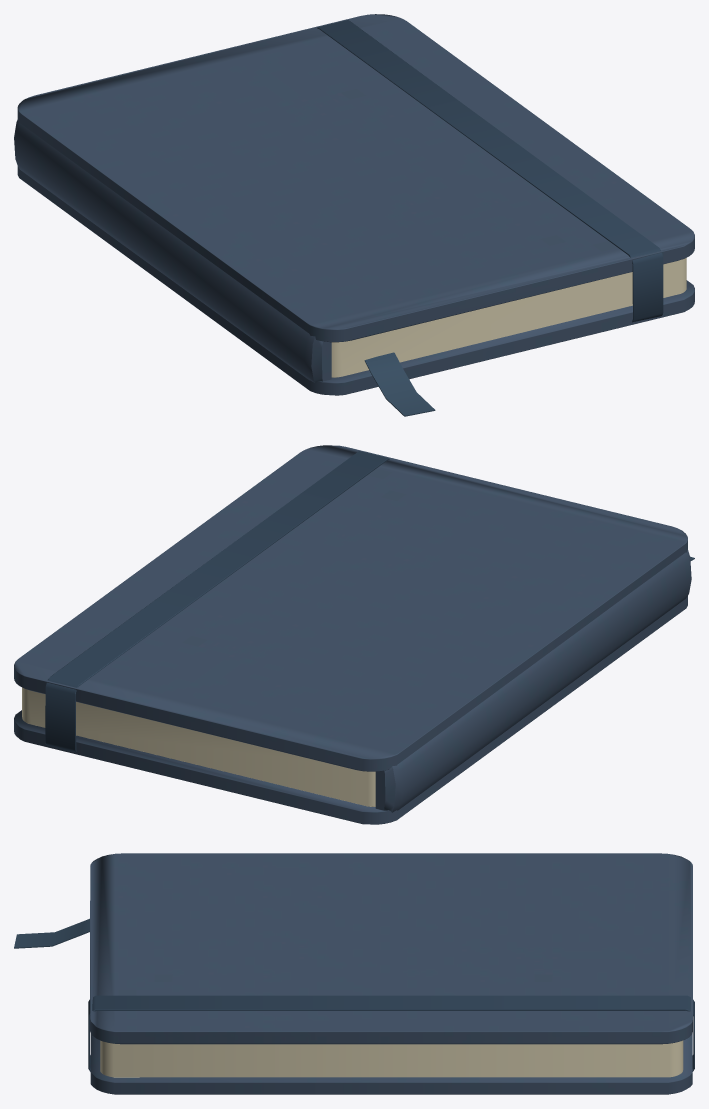
The model's file is notebook.glb.
3 views of the same model, one above another, from view 1: azimuth 30°, elevation 25°; view 2: azimuth 150°, elevation 25°; view 3: azimuth 270°, elevation 25° (orthographic). The views are drawn at different scales.
Visible parts, largest first — view 1: Bottom hardcover__asset.001, Elastic closure band__asset.001, Bound ivory page block__asset.001, Ribbon bookmark__asset.001; view 2: Bottom hardcover__asset.001, Elastic closure band__asset.001, Bound ivory page block__asset.001; view 3: Bottom hardcover__asset.001, Bound ivory page block__asset.001, Elastic closure band__asset.001, Ribbon bookmark__asset.001.
Boxes of the visible parts, x1,y1,x2,y2 form: Bottom hardcover__asset.001: (14,14,694,395); Elastic closure band__asset.001: (317,20,663,322); Bound ivory page block__asset.001: (331,258,686,377); Ribbon bookmark__asset.001: (364,352,435,416); Bottom hardcover__asset.001: (14,445,691,824); Elastic closure band__asset.001: (45,451,389,752); Bound ivory page block__asset.001: (22,687,375,806); Bottom hardcover__asset.001: (89,853,692,1094); Bound ivory page block__asset.001: (100,1040,683,1077); Elastic closure band__asset.001: (88,995,694,1071); Ribbon bookmark__asset.001: (14,918,89,948).
Bounding box in the file's own units: 0.1463 × 0.025 × 0.2335.
Materials: 4 (1 with a texture image).
